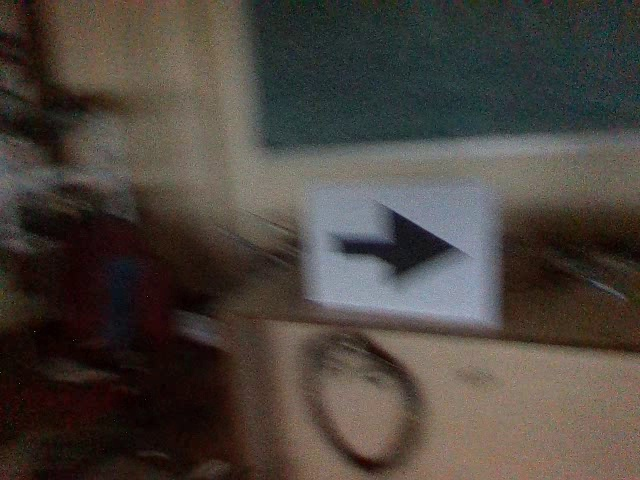Right: (327, 198, 467, 295)
